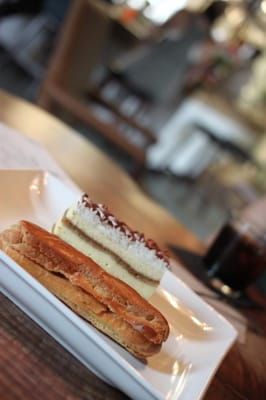burger: (166, 359, 192, 400)
soup: (0, 220, 171, 361)
